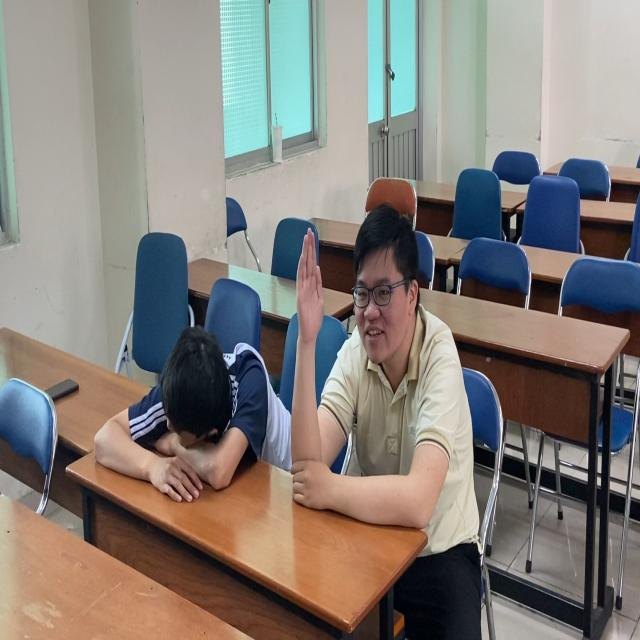raise_hand: (286, 188, 462, 540)
sleep: (91, 315, 279, 518)
